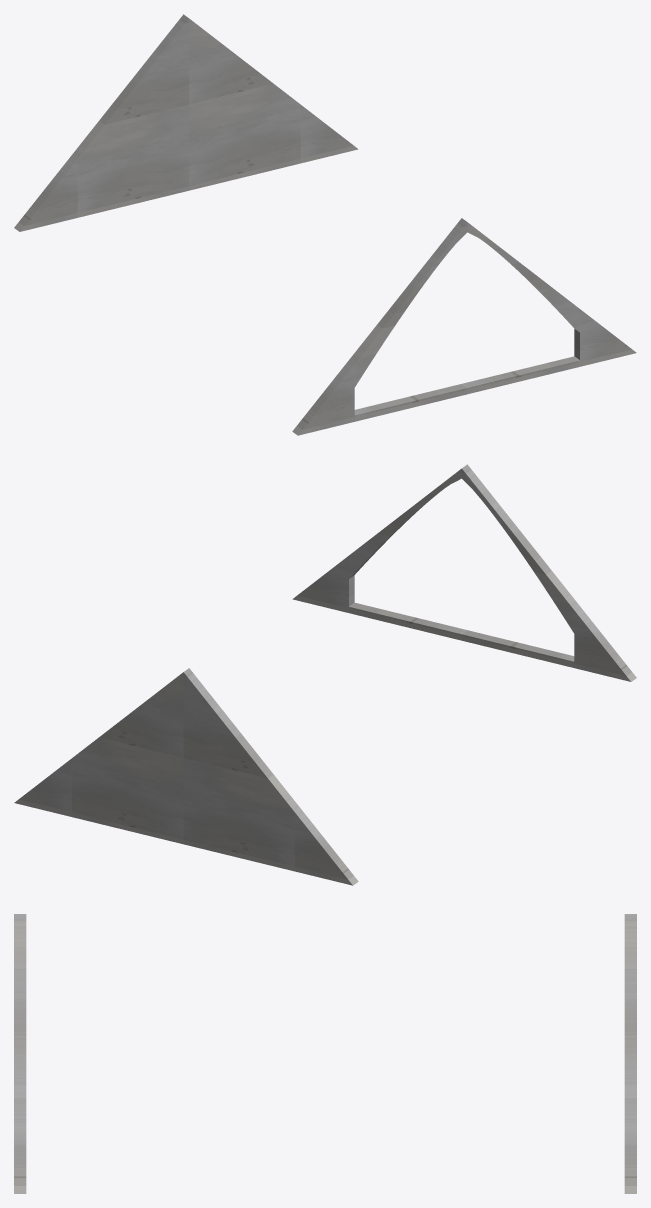
File: BW_Chapel01_Gables.fbx
The picture shows the model from 3 angles, top to bottom: view 1: azimuth 30°, elevation 25°; view 2: azimuth 150°, elevation 25°; view 3: azimuth 270°, elevation 25°; orthographic projection. The views are drawn at different scales.
Visible parts, largest first — view 1: BW_Chapel01_Gables; view 2: BW_Chapel01_Gables; view 3: BW_Chapel01_Gables.
Boxes of the visible parts, x1,y1,x2,y2 form: BW_Chapel01_Gables: (14, 14, 636, 435); BW_Chapel01_Gables: (14, 464, 636, 885); BW_Chapel01_Gables: (14, 914, 636, 1193).
Bounding box in the file's own units: 7.6 × 3.69 × 11.02.
